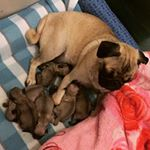puppy: (25, 10, 149, 102)
